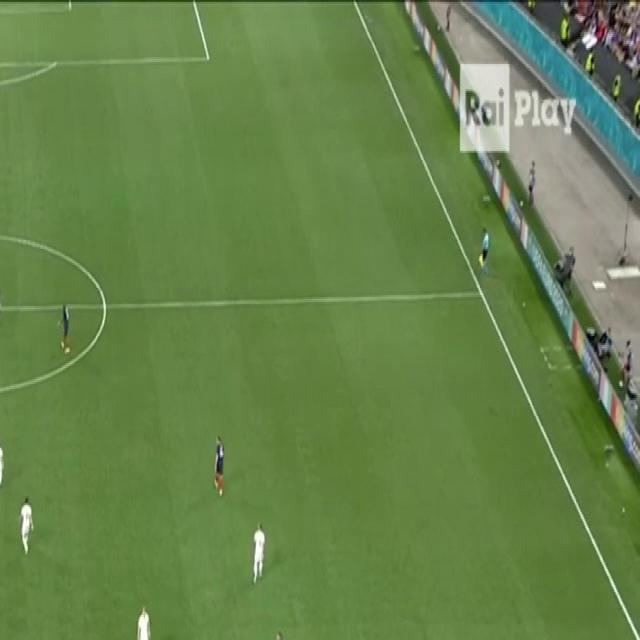player-white: (251, 519, 267, 587), (212, 433, 228, 499), (18, 494, 34, 558), (477, 222, 492, 282), (56, 298, 71, 356), (135, 602, 153, 640), (0, 436, 6, 492), (267, 629, 288, 640), (0, 279, 3, 336)
